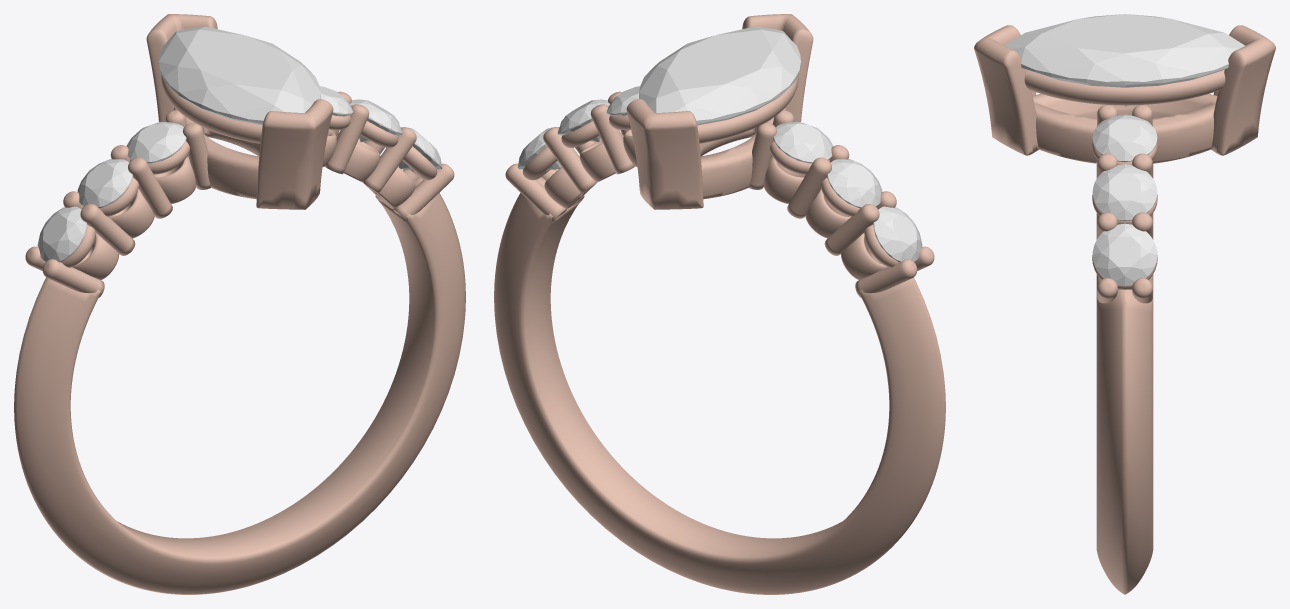
The model's file is diamond-marquise-rosegold-protectededges2prongs-knifeedge-7stone.glb.
The picture shows the model from 3 angles, left to right: view 1: azimuth 30°, elevation 25°; view 2: azimuth 150°, elevation 25°; view 3: azimuth 270°, elevation 25°; orthographic projection.
Parts seen in each view (by area): view 1: metal, stone.002, dia.001, dia.009, dia.010, dia.012, dia.011; view 2: metal, stone.002, dia.001, dia.009, dia.010, dia.012, dia.011; view 3: metal, stone.002, dia.011, dia.012, dia.013.
Part boxes in pixels (<box>): metal: <box>14,14,465,594</box>; stone.002: <box>159,26,320,125</box>; dia.001: <box>37,206,86,262</box>; dia.009: <box>77,159,132,208</box>; dia.010: <box>126,122,186,163</box>; dia.012: <box>350,99,402,142</box>; dia.011: <box>398,127,442,169</box>; metal: <box>494,14,945,594</box>; stone.002: <box>639,26,800,125</box>; dia.001: <box>873,206,922,262</box>; dia.009: <box>827,159,882,208</box>; dia.010: <box>773,122,833,163</box>; dia.012: <box>557,99,609,142</box>; dia.011: <box>517,127,561,169</box>; metal: <box>974,25,1275,594</box>; stone.002: <box>1004,14,1245,106</box>; dia.011: <box>1092,223,1157,286</box>; dia.012: <box>1092,164,1157,220</box>; dia.013: <box>1092,114,1157,162</box>.
Size of the model in its own units: 20.5 by 22.93 by 11.69.
